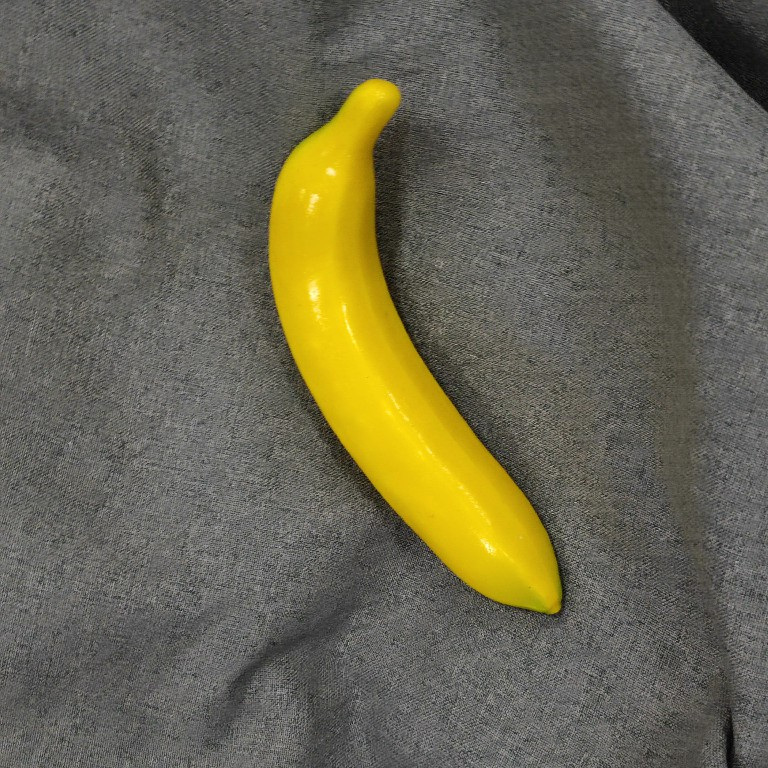fruit_banana: (262, 74, 569, 621)
